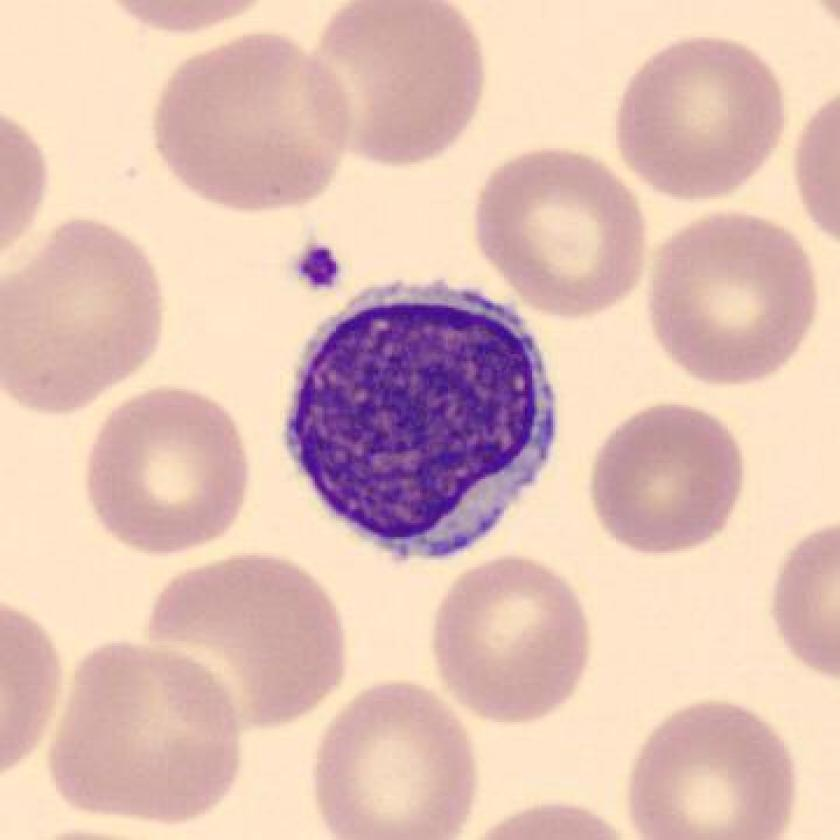lymphocyte: (270, 263, 578, 584)
platelets: (291, 242, 345, 291)
